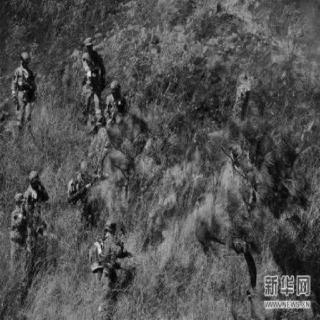other: (74, 34, 123, 128)
